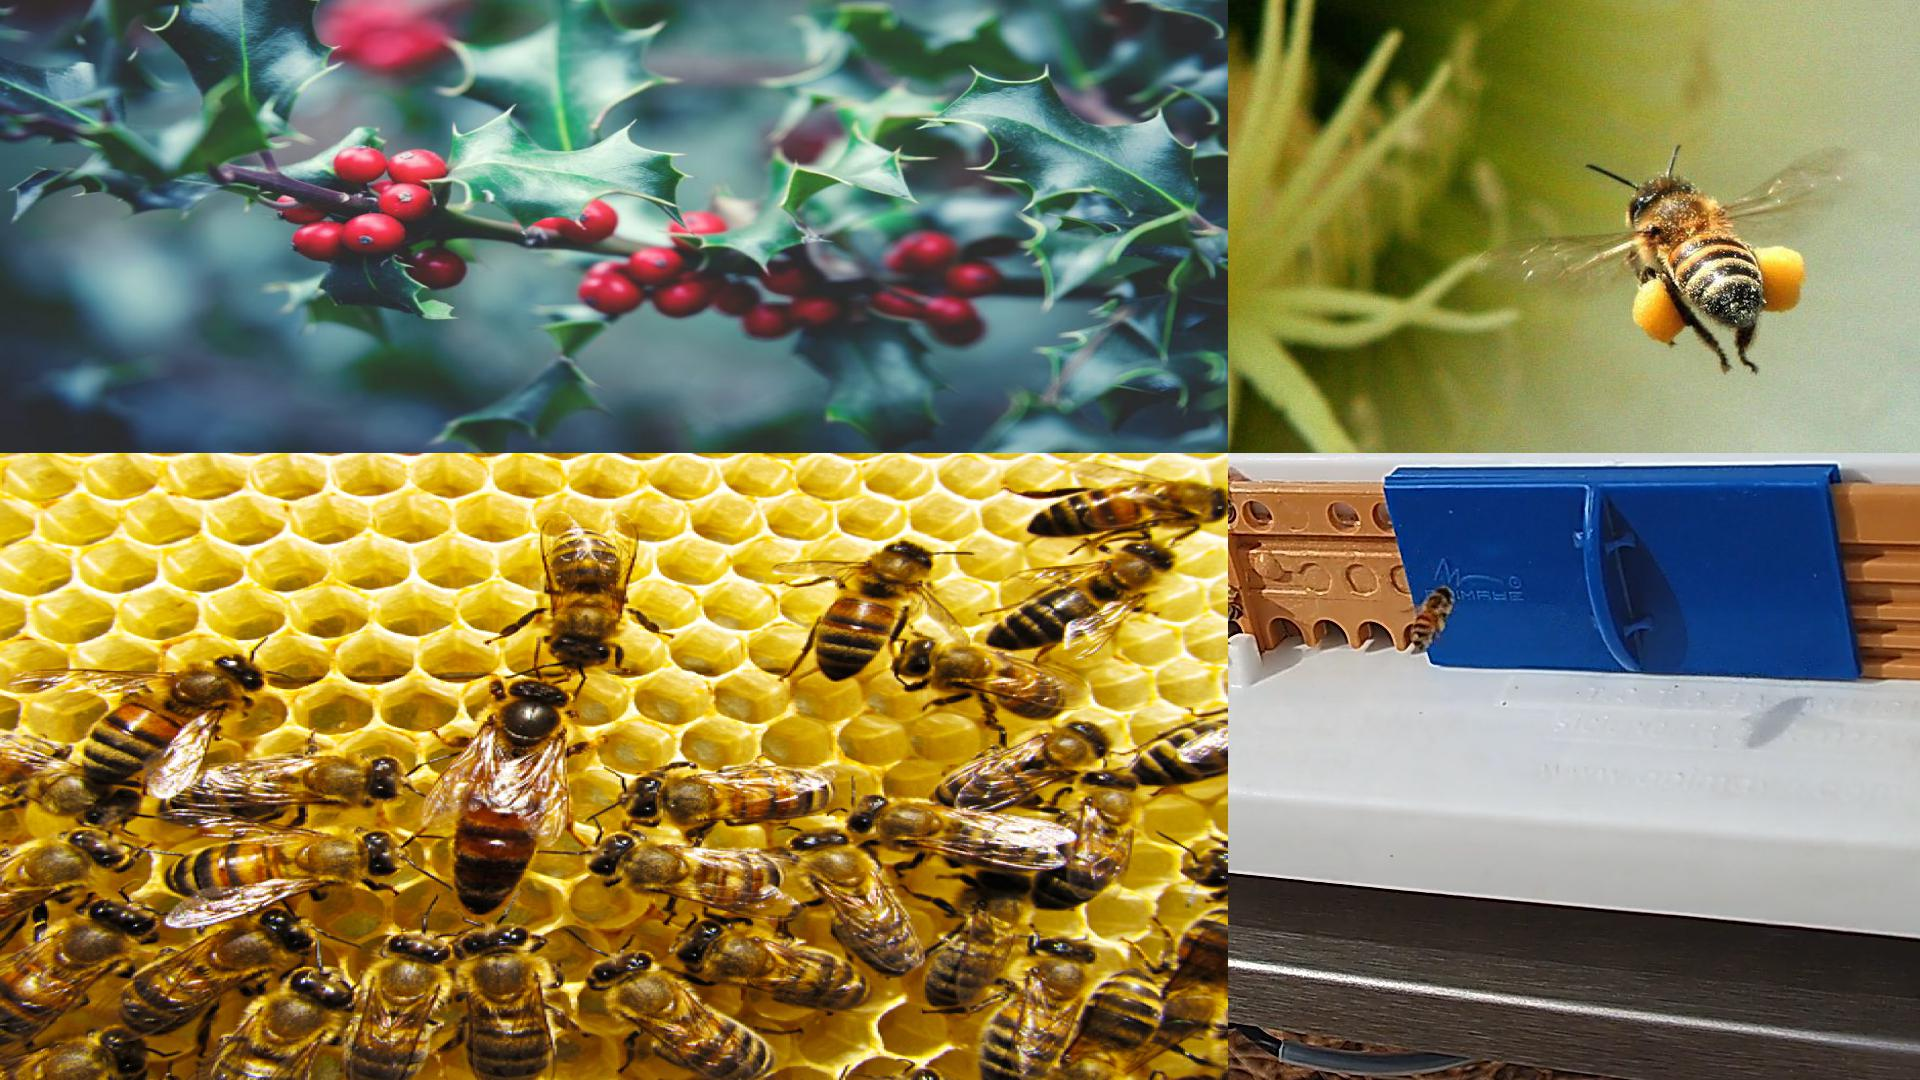bee: (119, 911, 313, 1034), (592, 952, 770, 1079), (0, 902, 154, 1046), (95, 658, 265, 782), (988, 543, 1176, 647), (793, 831, 922, 969), (678, 920, 870, 1006), (981, 940, 1097, 1079), (816, 542, 930, 682), (167, 832, 401, 899), (216, 968, 353, 1080), (160, 757, 401, 820), (345, 934, 446, 1080), (458, 924, 550, 1079), (858, 796, 1056, 868), (932, 725, 1109, 804), (927, 872, 1030, 1004), (587, 833, 785, 901), (617, 764, 831, 825), (1040, 773, 1134, 909), (901, 641, 1063, 717), (0, 736, 136, 827), (1058, 968, 1163, 1079), (550, 526, 625, 670), (1031, 483, 1226, 537), (0, 831, 123, 913), (0, 1027, 152, 1079), (1167, 907, 1228, 1017), (1129, 721, 1228, 783), (1184, 841, 1226, 895)
pollenbee: (1627, 178, 1805, 376), (1412, 587, 1455, 651), (1228, 582, 1245, 620)
queen: (450, 682, 566, 915)
